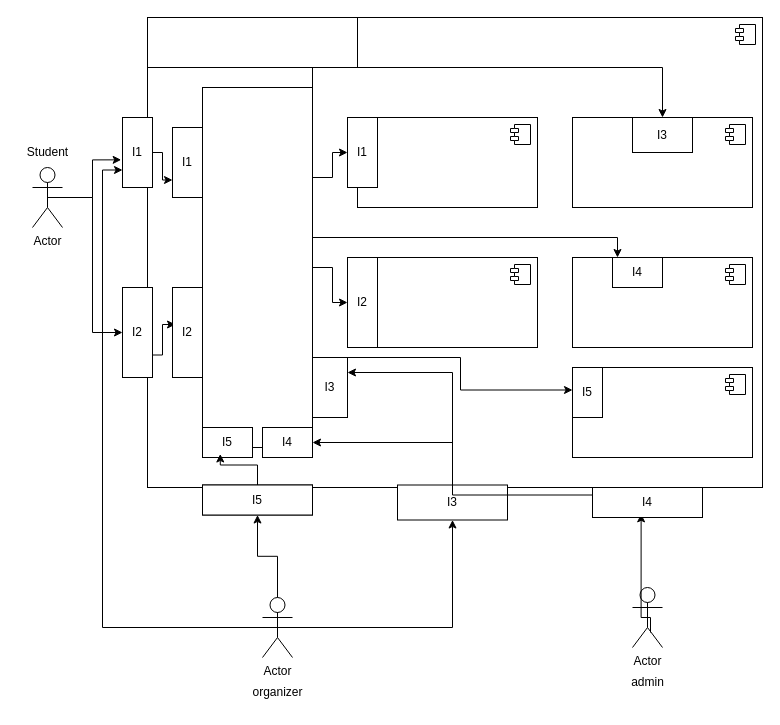
This 780x725 diagram has some shape labels left out. The box of each missing label's shape, as (x1, y1, x2, y2) in pixels:
API GATWAY: (202, 86, 312, 448)
Booking & Ticketing: (356, 256, 538, 348)
Event & Trip Management: (572, 116, 752, 208)
level 1 University Trips & Events Management System: (146, 16, 358, 68)
Notification mangement: (572, 256, 752, 348)
Reporting & Analytics mangement: (572, 366, 752, 458)
User Management: (356, 116, 538, 208)
